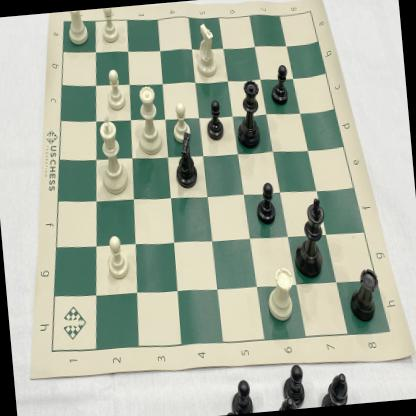king: (287, 195, 331, 284), (93, 111, 132, 199)
knight: (166, 130, 203, 192), (190, 19, 222, 82)
pawn: (102, 233, 132, 282), (166, 96, 194, 148), (265, 59, 292, 110), (102, 64, 128, 113), (252, 181, 277, 231), (203, 98, 228, 146), (97, 7, 122, 48)
queen: (230, 76, 265, 156), (134, 81, 164, 158)
rook: (344, 264, 383, 330), (264, 262, 299, 326), (64, 10, 92, 48)
